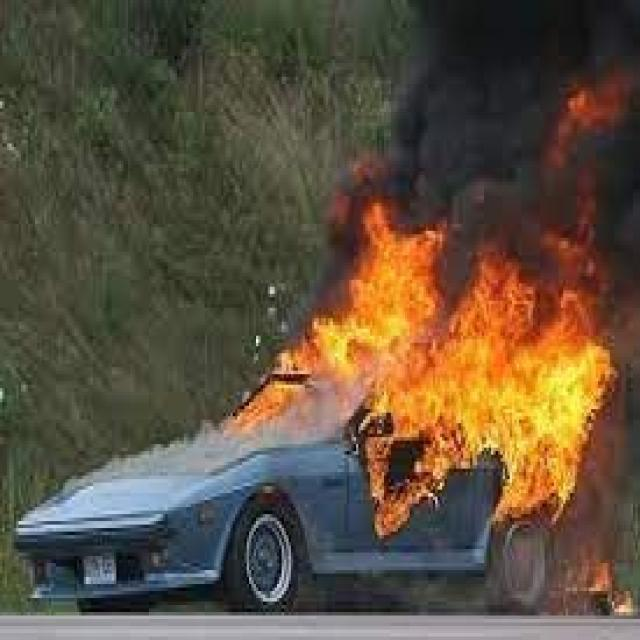fire: (222, 199, 449, 438), (364, 237, 536, 538), (486, 164, 618, 528), (543, 66, 637, 170), (589, 557, 634, 619)
